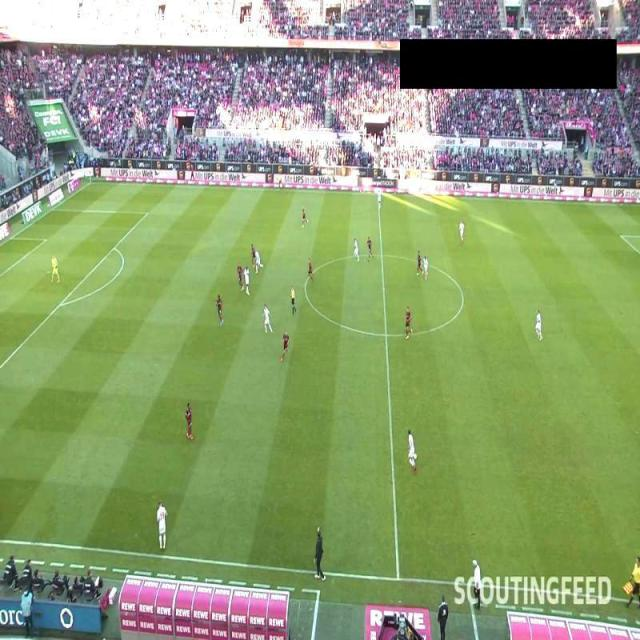bigarea_top_inner: (616, 230, 626, 240), (143, 209, 153, 218)
bigarea_top_outter: (47, 204, 58, 216)
bottom_arc_area_intersection: (55, 300, 66, 310)
corner: (85, 178, 96, 189)
halfcircle_bottom: (380, 329, 392, 340)
halfcircle_top: (376, 248, 388, 262)
midline_bottom_intersection: (392, 572, 405, 586)
midline_top_intersection: (372, 190, 385, 200)
smallarea_top_inner: (41, 234, 52, 246)
smallarea_top_outter: (6, 232, 16, 242)
top_arc_area_intersection: (109, 242, 120, 254)
